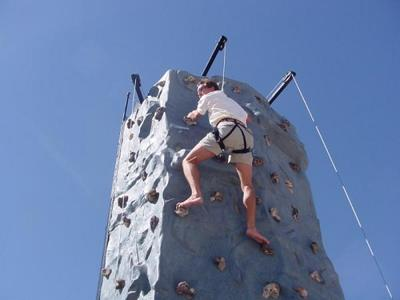person: (176, 78, 270, 246)
